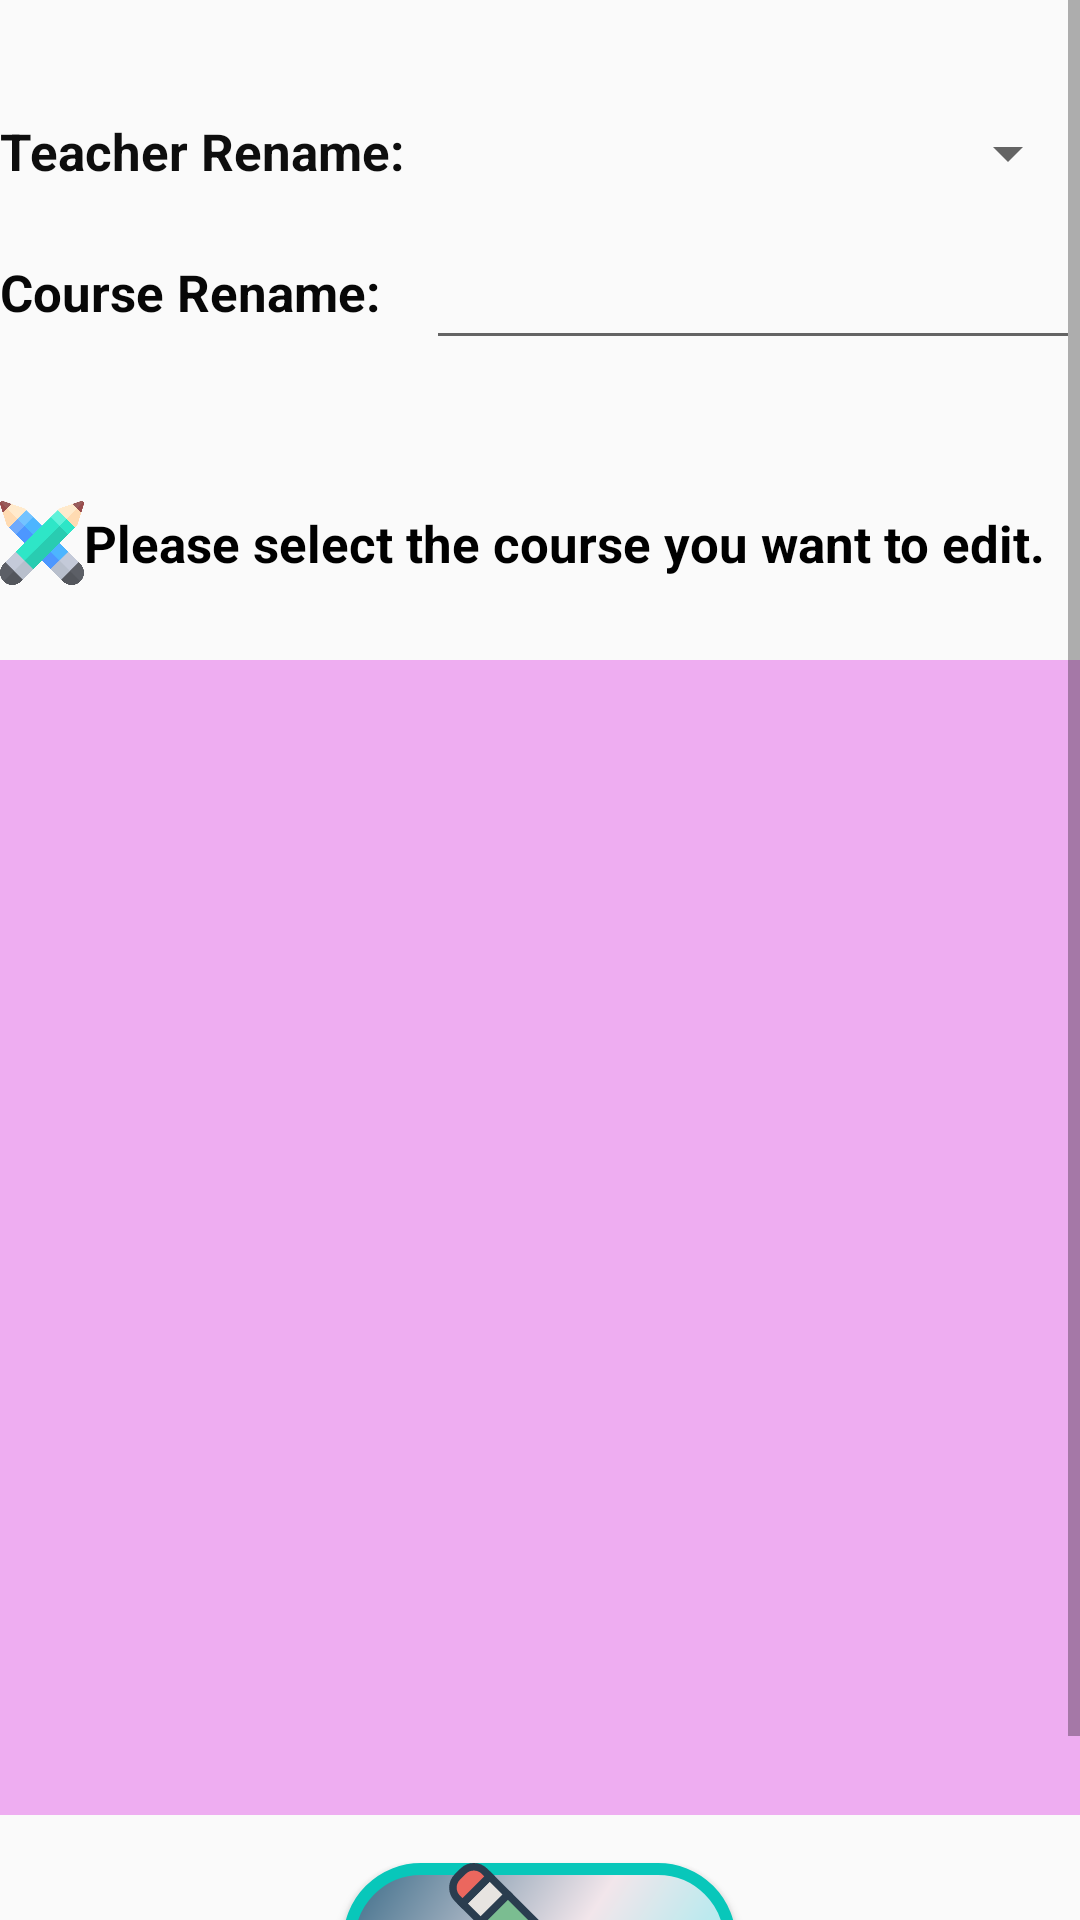

Where icons sit on this 1080px×1920px app screen, as (x1, y1, x2, y2):
editpng: (0, 501, 84, 585)
